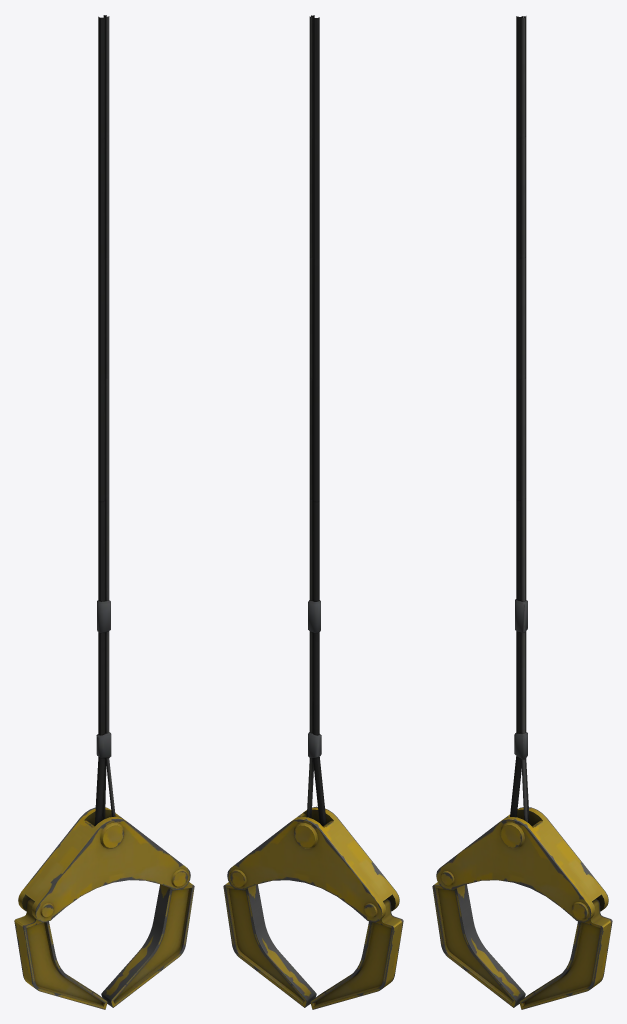
3 views of the same model, side by side, from view 1: azimuth 30°, elevation 25°; view 2: azimuth 150°, elevation 25°; view 3: azimuth 330°, elevation 25° (orthographic).
Visible parts, largest first — view 1: body0_model0_lod0_mesh0; view 2: body0_model0_lod0_mesh0; view 3: body0_model0_lod0_mesh0.
Boxes of the visible parts, left/top/right/bottom form: body0_model0_lod0_mesh0: left=14, top=15, right=194, bottom=1009; body0_model0_lod0_mesh0: left=223, top=15, right=403, bottom=1009; body0_model0_lod0_mesh0: left=432, top=16, right=612, bottom=1009.
Size of the model in its own units: 66.52 by 369 by 13.55.
Materials: 1 (1 with a texture image).
